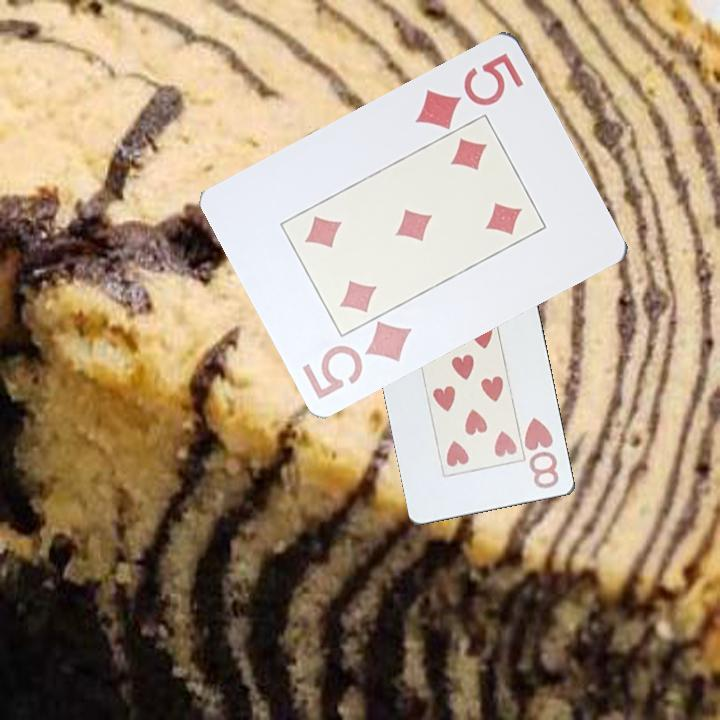5d: (298, 317, 416, 402), (411, 48, 527, 131)
8h: (522, 414, 562, 492)
